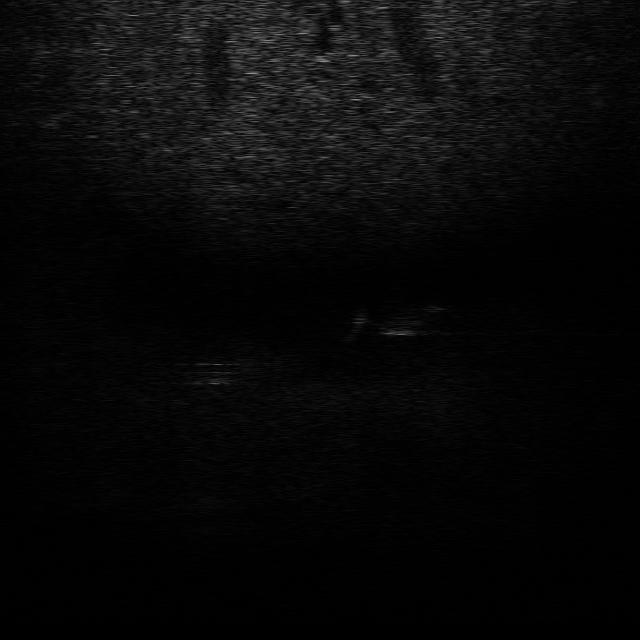ball: (190, 359, 238, 386)
human body: (338, 300, 442, 344)
